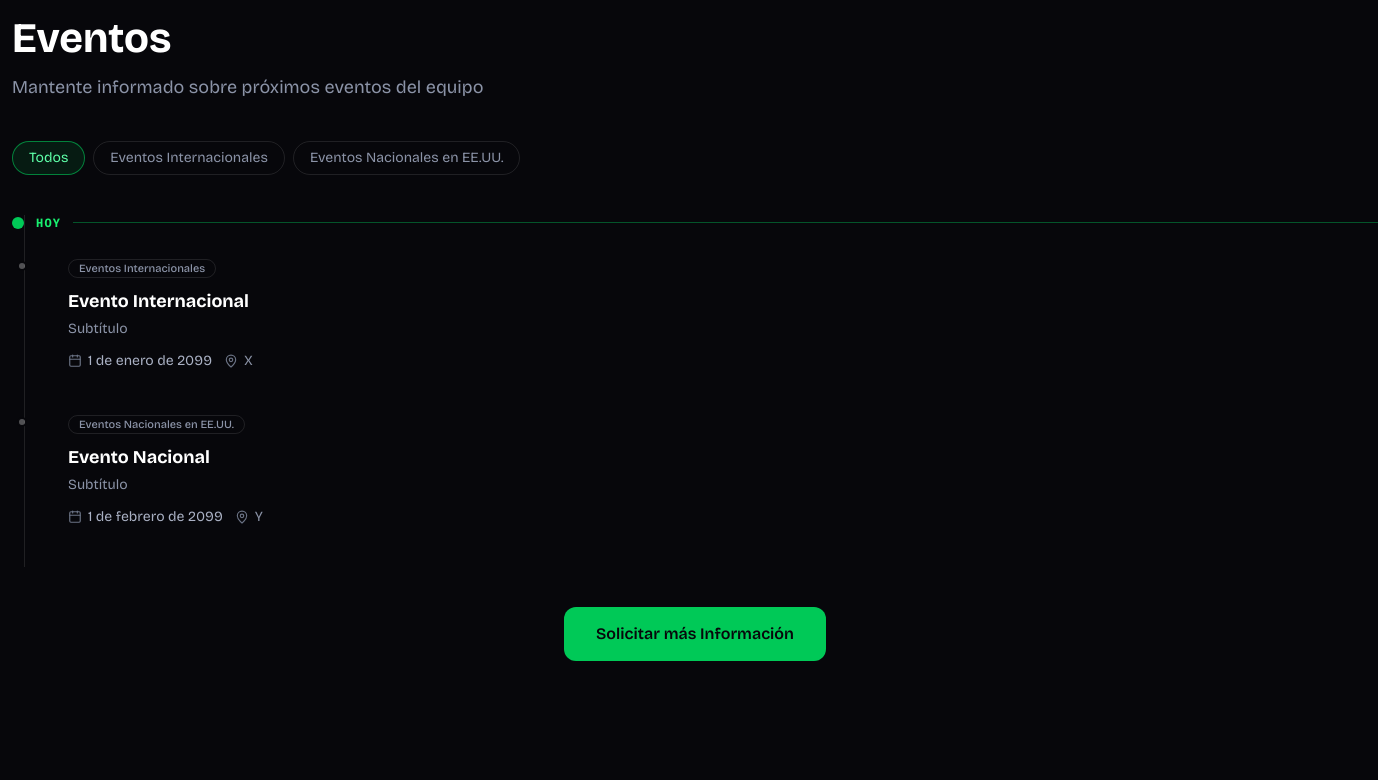
Scenario: EventosTimeline › filtra por categoria con los chips
Click the button "Eventos Internacionales" at [189, 158], box [93,140,285,174]
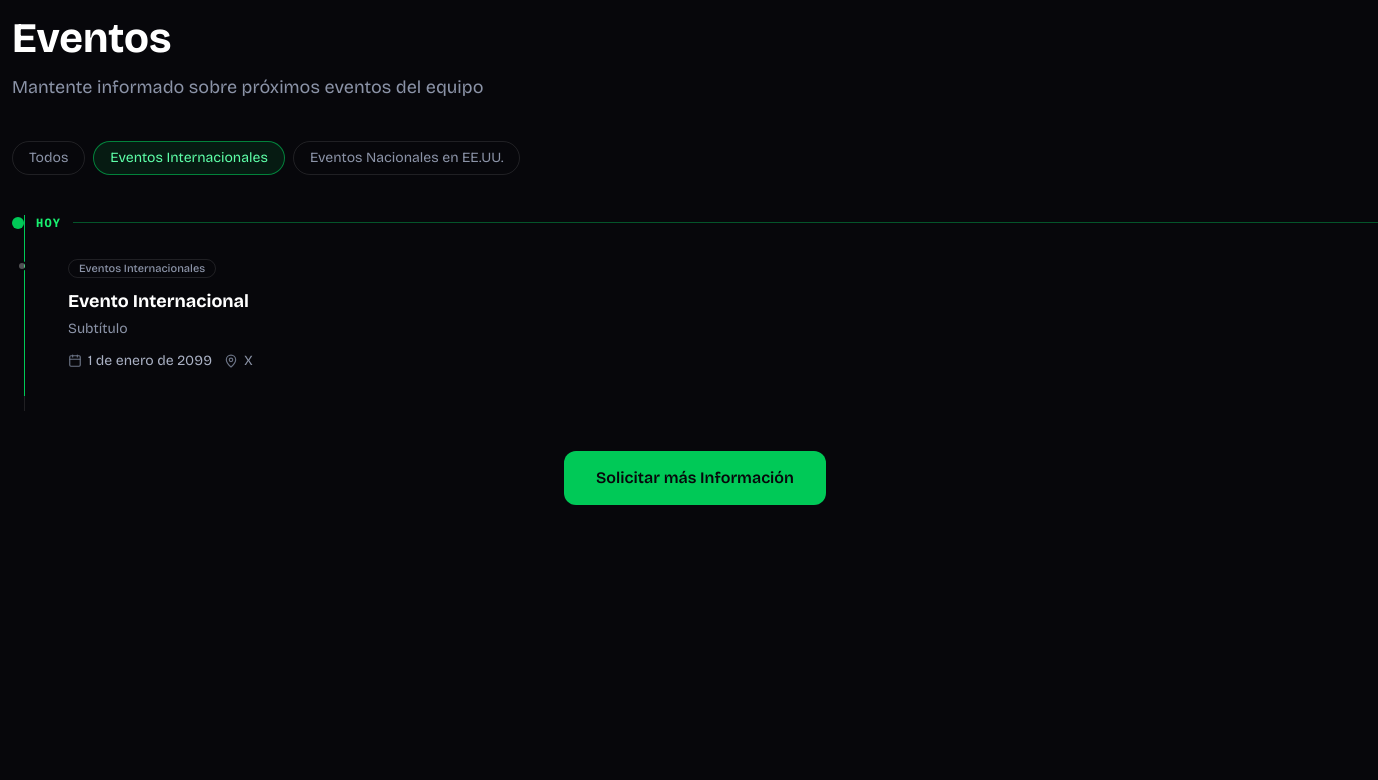
Expected: the heading "Evento Internacional" is shown, [68,290,249,312]
Now the heading "Evento Nacional" is gone
